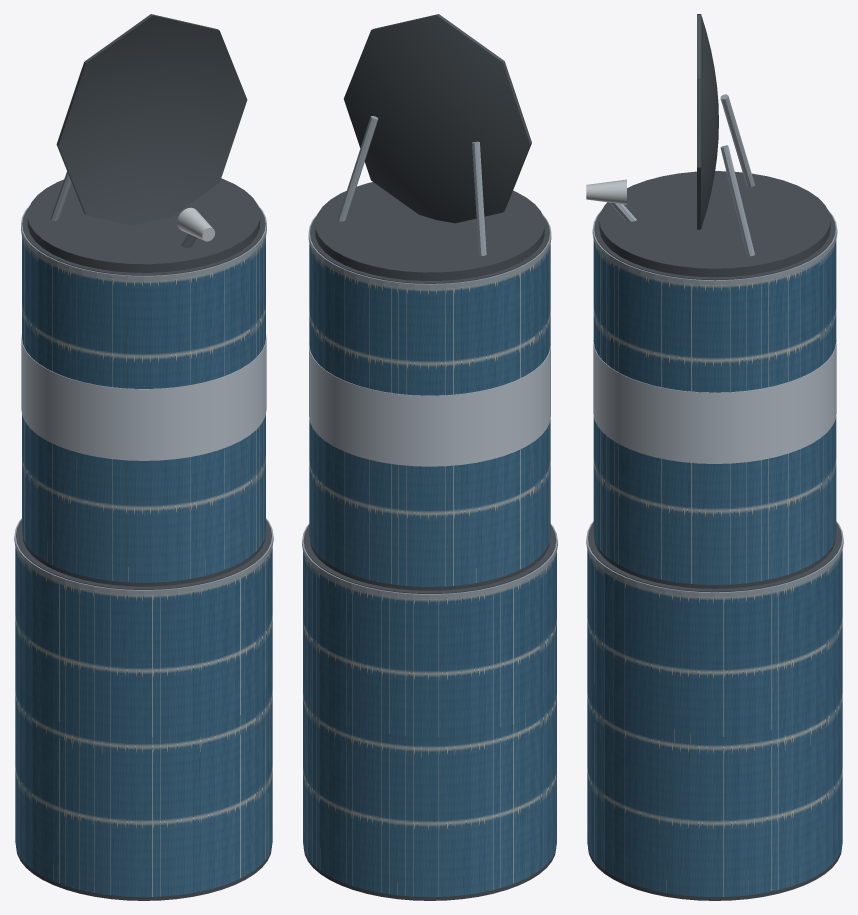
The model's file is sirius-3.glb.
3 views of the same model, side by side, from view 1: azimuth 30°, elevation 25°; view 2: azimuth 150°, elevation 25°; view 3: azimuth 270°, elevation 25° (orthographic).
Parts seen in each view (by area): view 1: Cylindrical solar cells (×2), Broadcast reflector, Thermal control belt, Despun antenna platform, Telescoping solar drum (×2), Drum end ring (×2), Offset feed; view 2: Cylindrical solar cells (×2), Broadcast reflector, Thermal control belt, Despun antenna platform, Telescoping solar drum (×2), Drum end ring (×2), Reflector support (×2); view 3: Cylindrical solar cells (×2), Despun antenna platform, Thermal control belt, Telescoping solar drum (×2), Broadcast reflector, Drum end ring (×2), Reflector support (×2), Offset feed.
Part boxes in pixels (x1,y1,x2,y2): Cylindrical solar cells (×2): [15, 237, 272, 896]; Broadcast reflector: [56, 14, 247, 225]; Thermal control belt: [21, 334, 266, 460]; Despun antenna platform: [27, 178, 260, 272]; Telescoping solar drum (×2): [16, 207, 271, 900]; Drum end ring (×2): [14, 204, 273, 595]; Offset feed: [177, 207, 214, 241]; Cylindrical solar cells (×2): [303, 244, 556, 897]; Broadcast reflector: [343, 14, 531, 223]; Thermal control belt: [309, 343, 550, 466]; Despun antenna platform: [315, 182, 544, 280]; Telescoping solar drum (×2): [303, 216, 556, 900]; Drum end ring (×2): [302, 214, 557, 599]; Reflector support (×2): [337, 116, 486, 255]; Cylindrical solar cells (×2): [587, 241, 842, 897]; Despun antenna platform: [599, 171, 830, 277]; Thermal control belt: [593, 340, 836, 463]; Telescoping solar drum (×2): [588, 213, 841, 900]; Broadcast reflector: [697, 14, 718, 229]; Drum end ring (×2): [586, 210, 843, 597]; Reflector support (×2): [720, 94, 754, 256]; Offset feed: [586, 179, 626, 204].
Size of the model in its own units: 2.19 by 7.8 by 2.19.
Materials: 5 (1 with a texture image).
